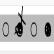correct: (44, 19, 52, 40)
no answer: (30, 18, 38, 39), (2, 20, 10, 39)
not correct: (14, 6, 26, 41)
